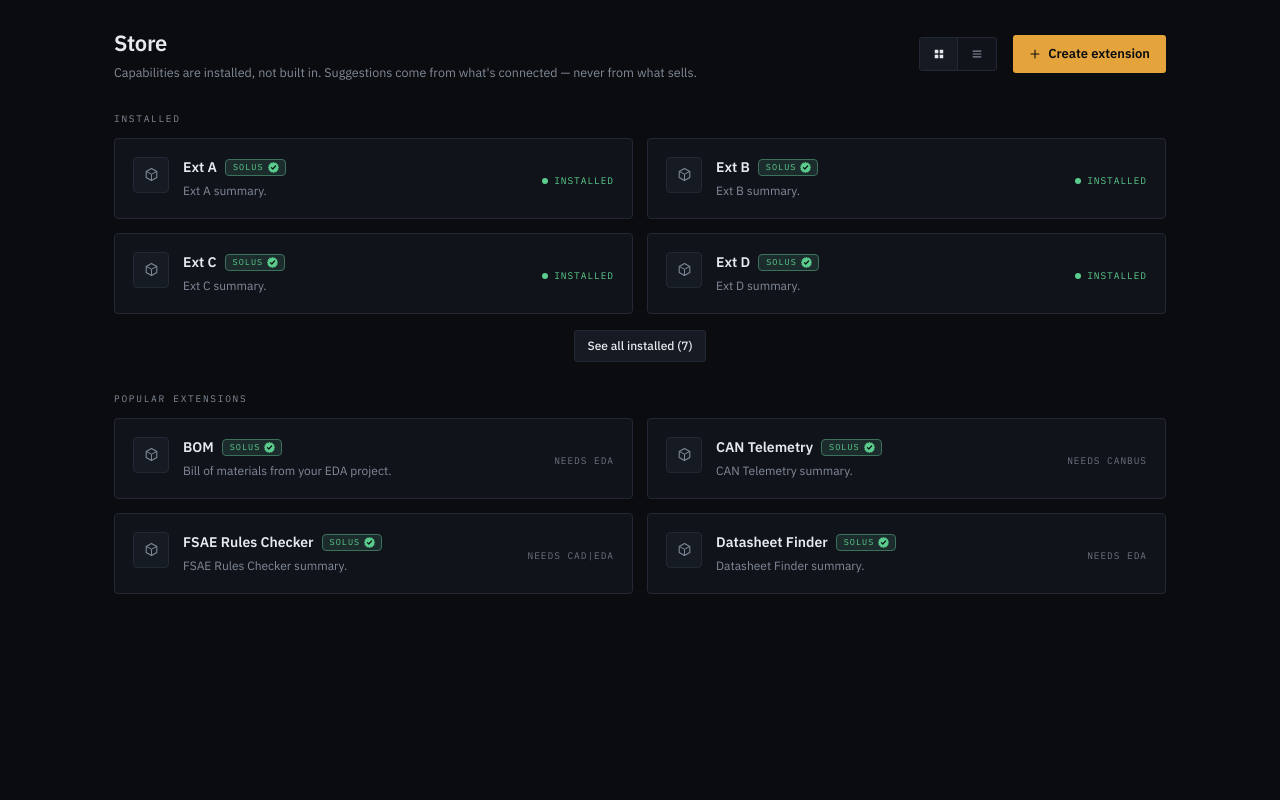
Test case: StoreScreen › previews the installed set and expands to all of them
The image size is (1280, 800).
Expected: the element with test id "store-installed" is shown, [114,138,1166,314]
Expected: the heading "Store" is shown, [114,28,167,57]
Click the button "See all installed (7)" at (640, 346), box [574,330,706,362]
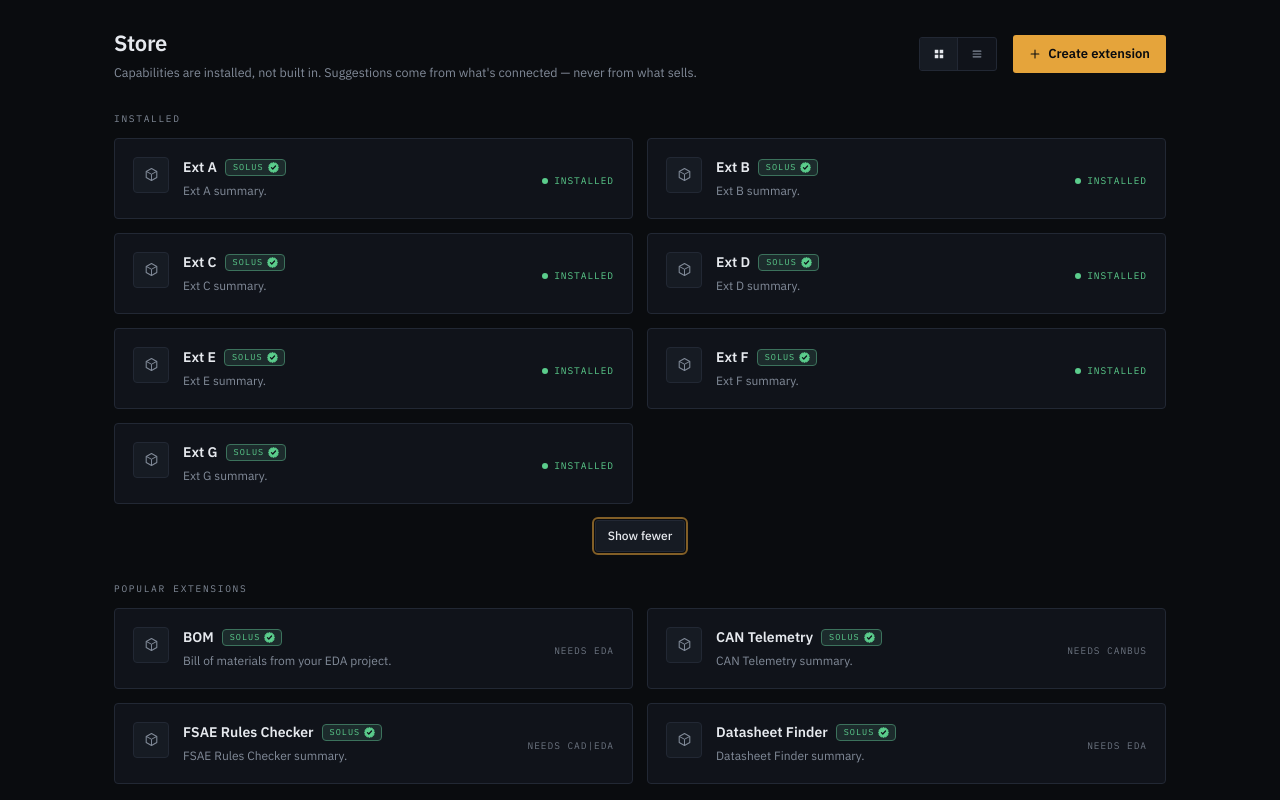
Expected: the text "INSTALLED" is shown 7 times
Click the button "Show fewer" at (640, 536), box [595,520,685,552]
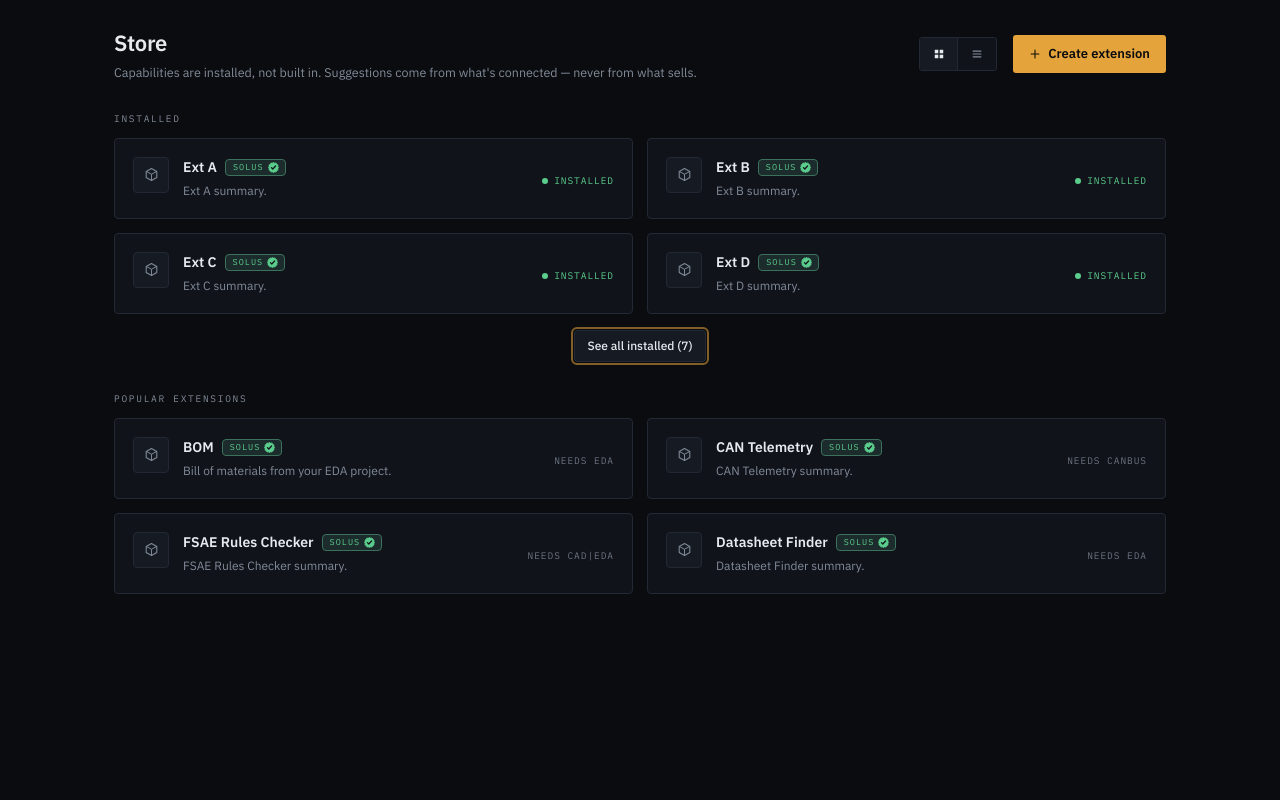
Expected: the text "INSTALLED" is shown 4 times, [554,174,614,188]; [1087,174,1147,188]; [554,269,614,283]; [1087,269,1147,283]
